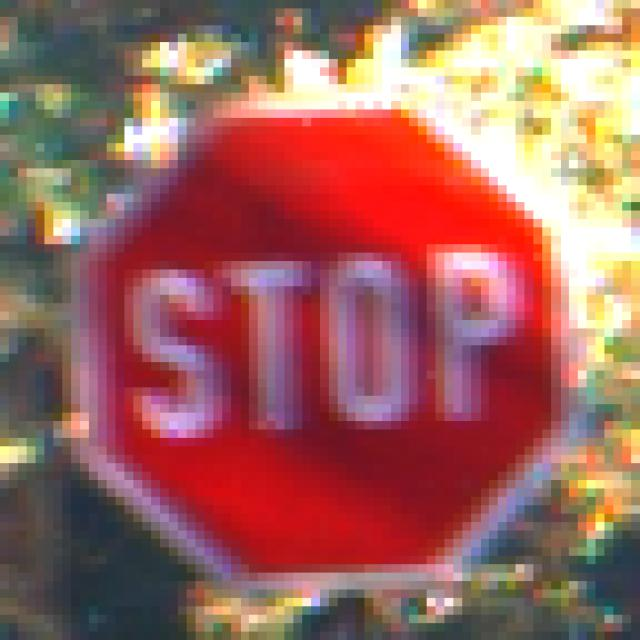STOP: (63, 60, 588, 590)
